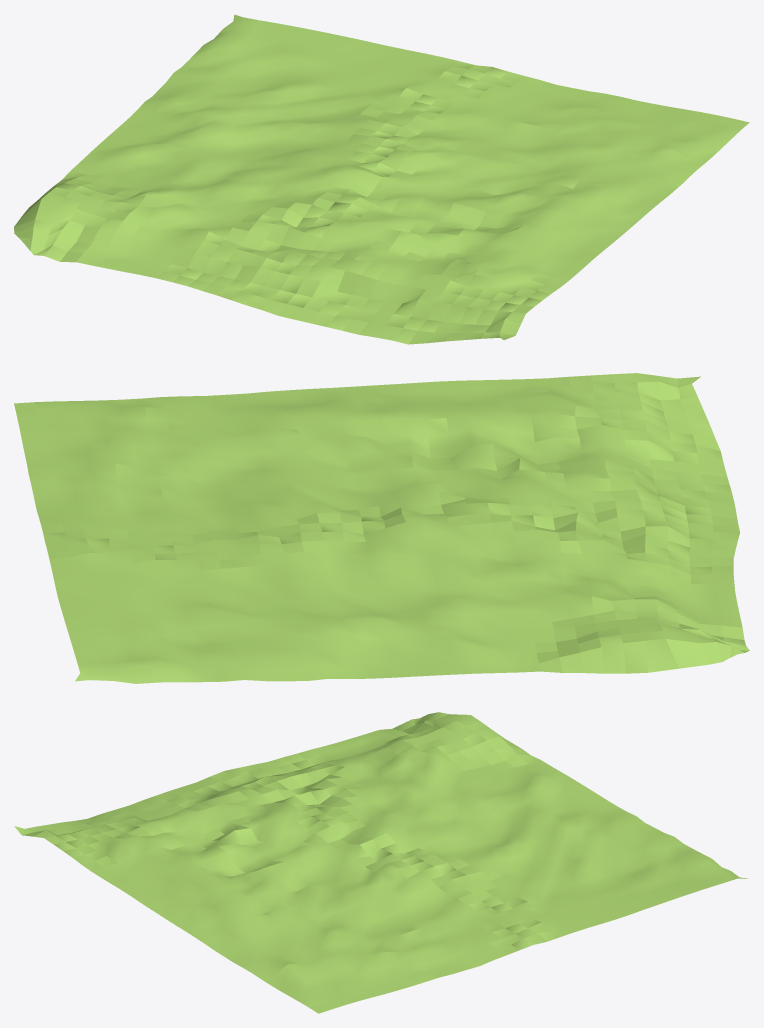
Rendered from lowpolynew.fbx.
3 views of the same model, one above another, from view 1: azimuth 30°, elevation 25°; view 2: azimuth 150°, elevation 25°; view 3: azimuth 270°, elevation 25° (orthographic). The views are drawn at different scales.
Parts seen in each view (by area): view 1: lowpolytest__2_; view 2: lowpolytest__2_; view 3: lowpolytest__2_.
Boxes of the visible parts, x1=… form: lowpolytest__2_: x1=14, y1=14, x2=749, y2=344; lowpolytest__2_: x1=14, y1=373, x2=749, y2=683; lowpolytest__2_: x1=14, y1=712, x2=747, y2=1013.
Bounding box in the file's own units: 10826 × 538 × 11172.
